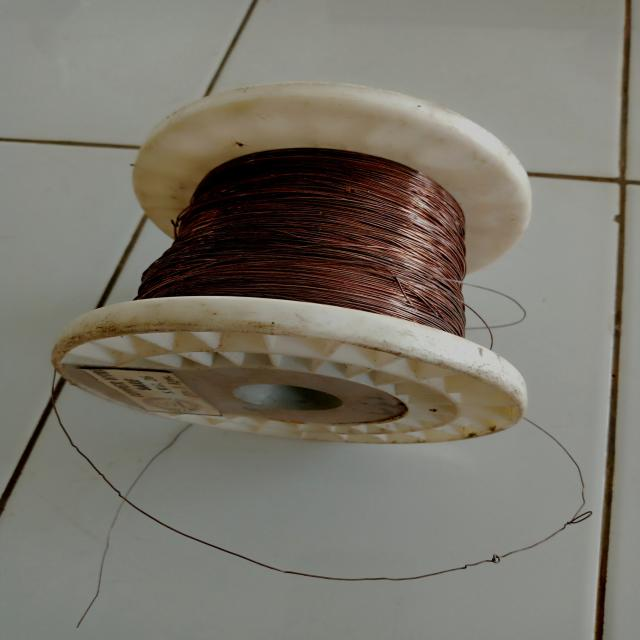Copper Wire: (50, 92, 554, 448)
